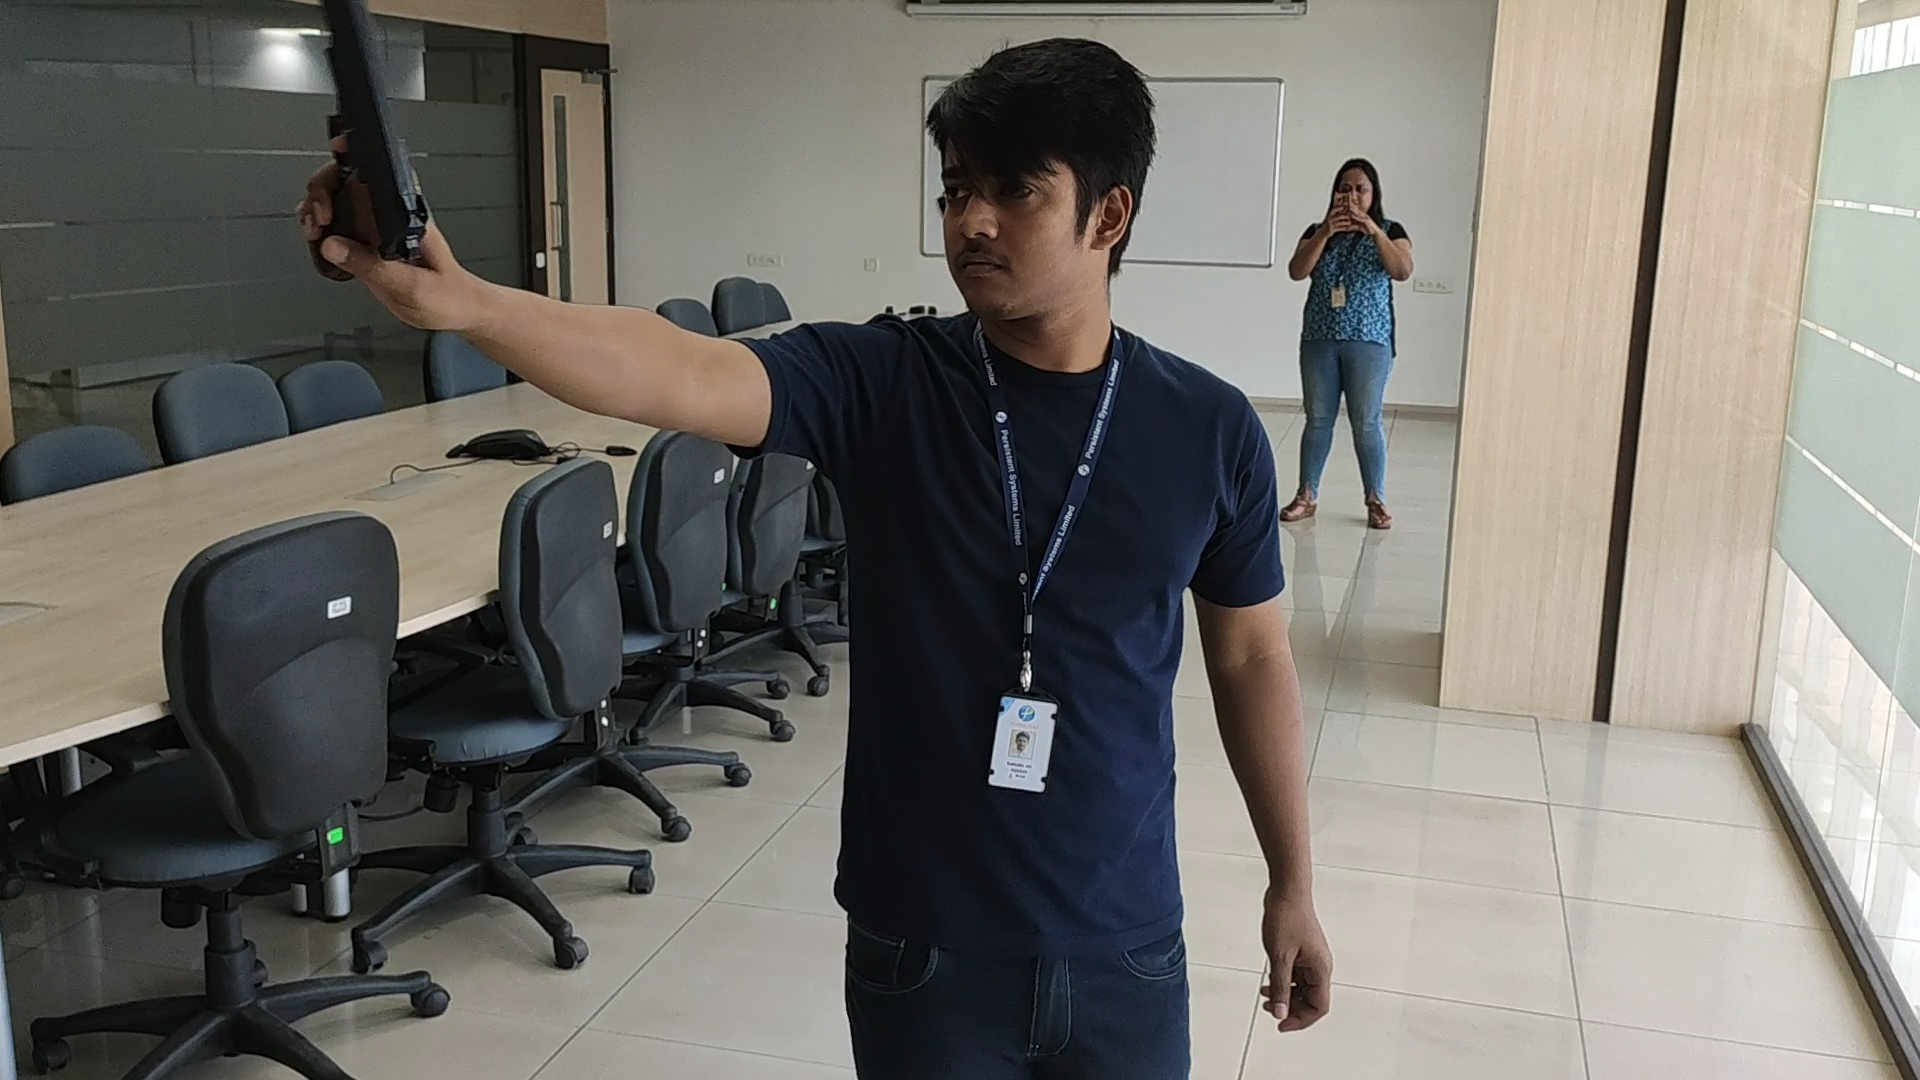gun: (285, 1, 429, 266)
